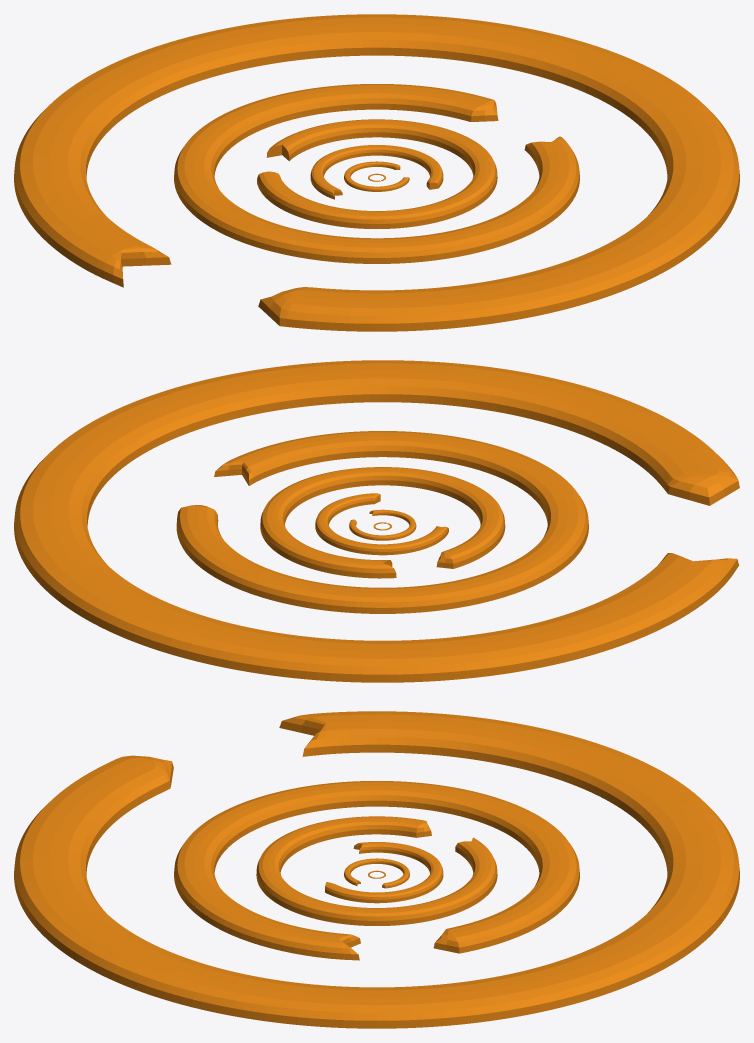
File: hireco_3DScene_beveled-v4.glb
3 renders of one model, top to bottom at view 1: azimuth 30°, elevation 25°; view 2: azimuth 150°, elevation 25°; view 3: azimuth 270°, elevation 25°, orthographic.
Visible parts, largest first — view 1: ring_6, ring_5, ring_4, ring_3, ring_2; view 2: ring_6, ring_5, ring_4, ring_3, ring_2; view 3: ring_6, ring_5, ring_4, ring_3, ring_2.
Boxes of the visible parts, x1=… form: ring_6: x1=14, y1=14, x2=739, y2=331; ring_5: x1=174, y1=84, x2=579, y2=263; ring_4: x1=257, y1=119, x2=497, y2=228; ring_3: x1=310, y1=145, x2=443, y2=199; ring_2: x1=344, y1=161, x2=409, y2=191; ring_6: x1=14, y1=360, x2=739, y2=682; ring_5: x1=176, y1=431, x2=588, y2=613; ring_4: x1=260, y1=467, x2=505, y2=578; ring_3: x1=315, y1=493, x2=448, y2=555; ring_2: x1=349, y1=509, x2=416, y2=540; ring_6: x1=14, y1=711, x2=739, y2=1028; ring_5: x1=174, y1=781, x2=579, y2=960; ring_4: x1=256, y1=816, x2=497, y2=925; ring_3: x1=325, y1=842, x2=443, y2=903; ring_2: x1=344, y1=858, x2=409, y2=888.
Size of the model in its own units: 1.55 by 0.0373 by 1.55.
